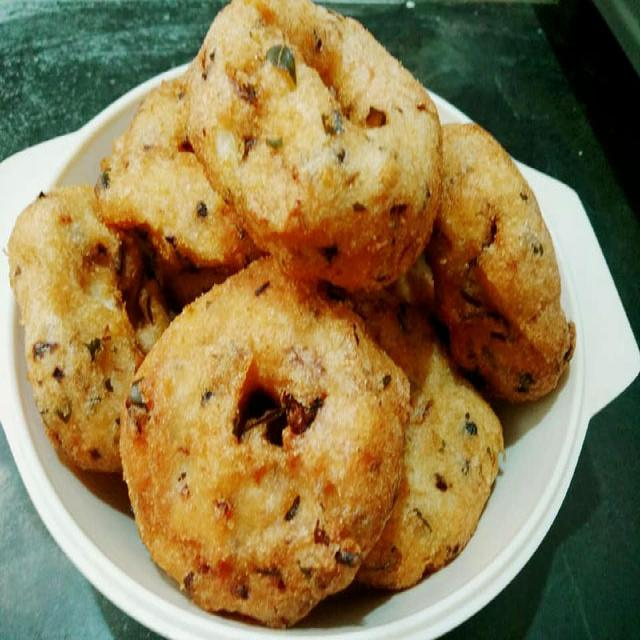MEDU VADA: (121, 259, 404, 622), (181, 0, 440, 286), (12, 192, 169, 476), (427, 125, 562, 389), (369, 296, 500, 561), (106, 81, 248, 286)
